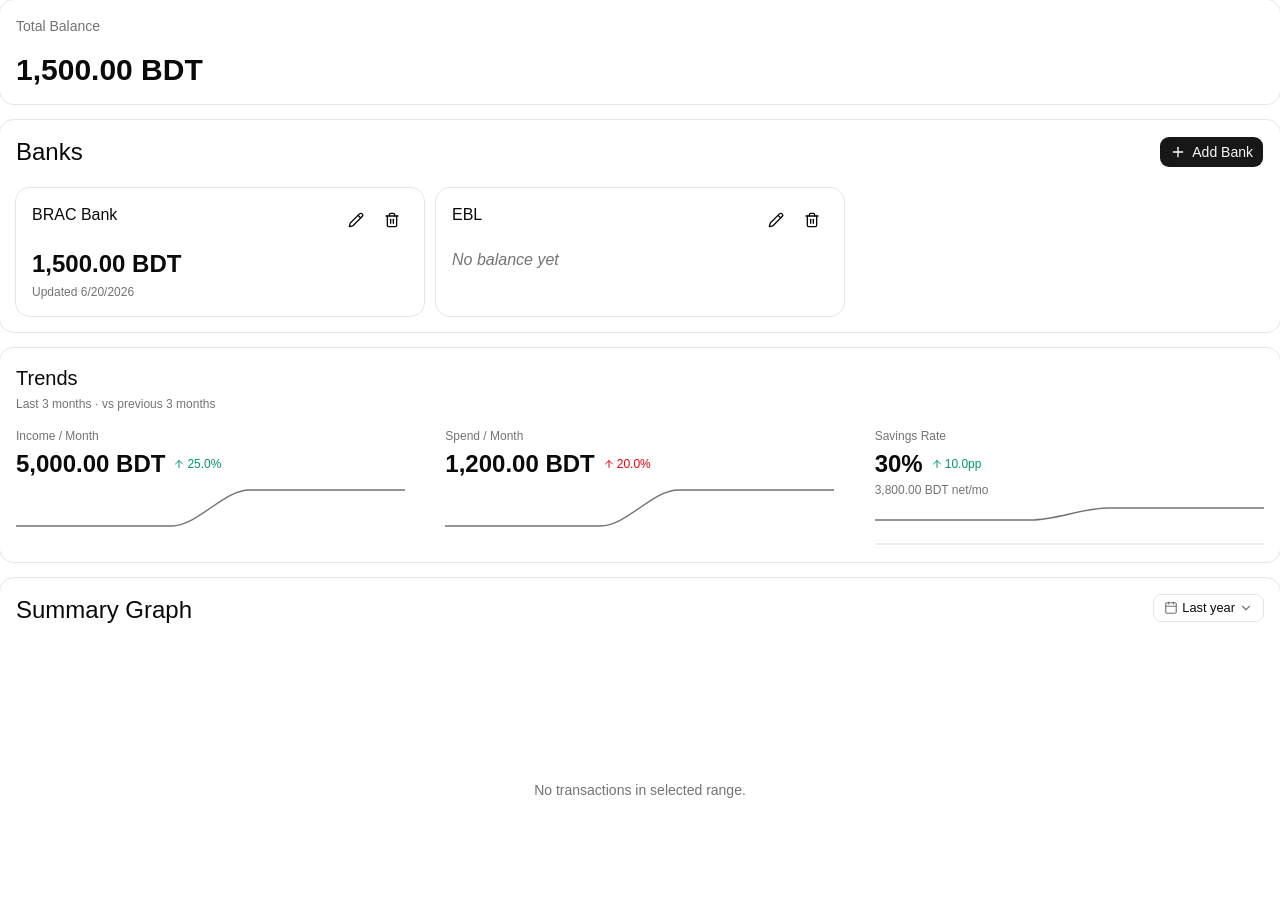
Test: FinancePage › reveals recent vs prior figures in the badge tooltip on hover
The image size is (1280, 900).
Step 1. Hover over the button "25.0%" → [197, 464], box [173,456,221,472]
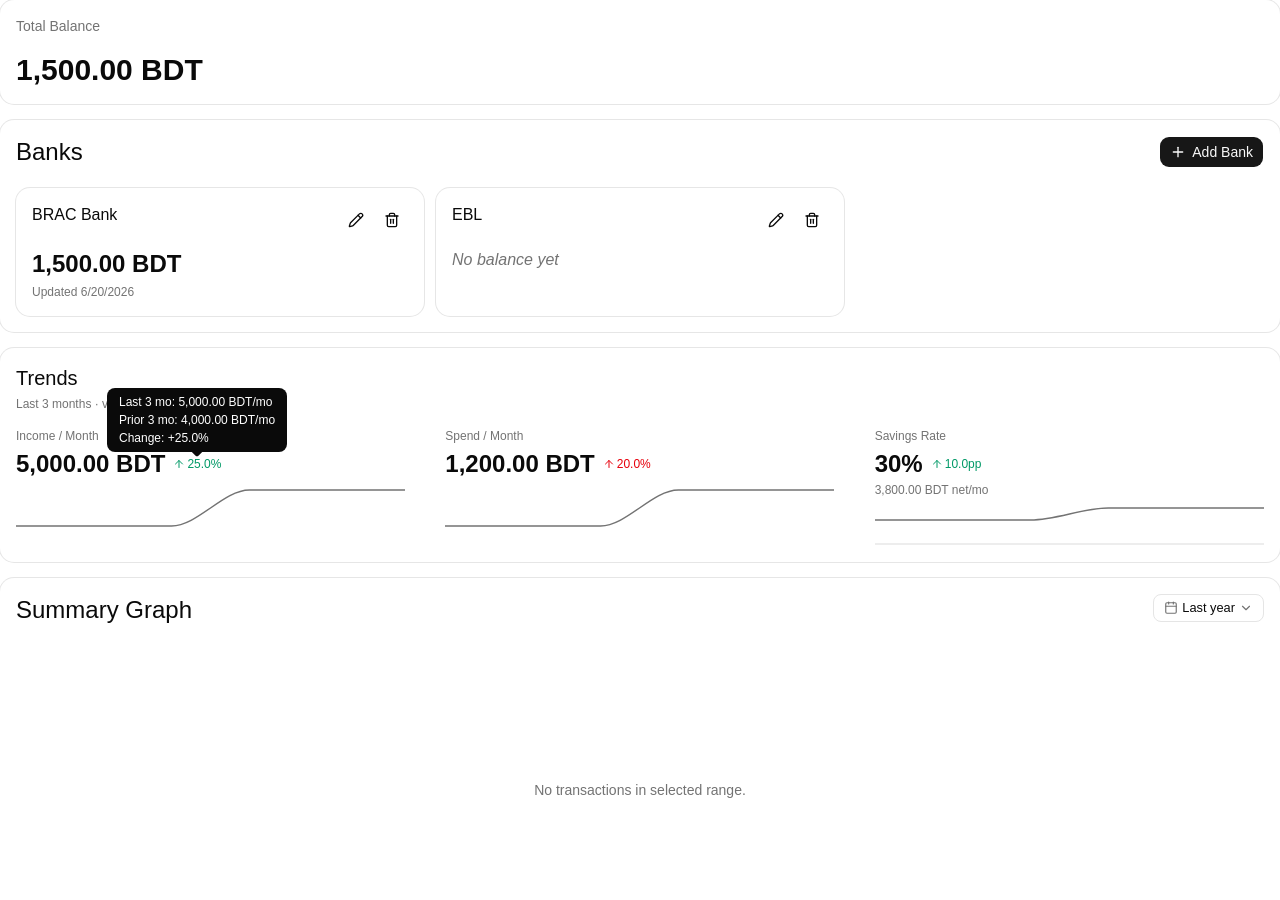
Now the text "Prior 3 mo: 4,000.00 BDT/mo" is shown, box [119,412,275,428]
